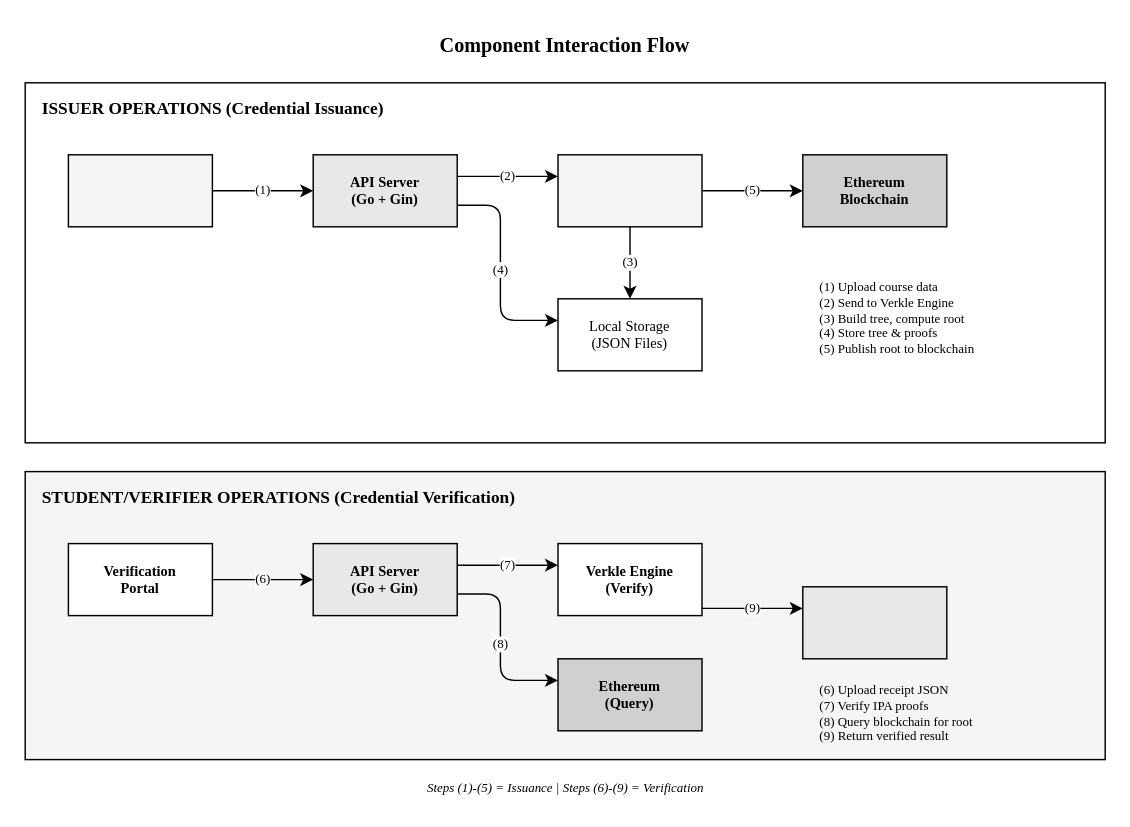
The diagram is 1130 pixels wide and 827 high, and some of its shapes have lost their labels. The centre of each missing label's shape, as x and y in pixels:
"Issuer Dashboard" belongs at point 139,190.
"Verified Result" belongs at point 874,622.
"Verkle Engine (go-verkle)" belongs at point 629,190.
